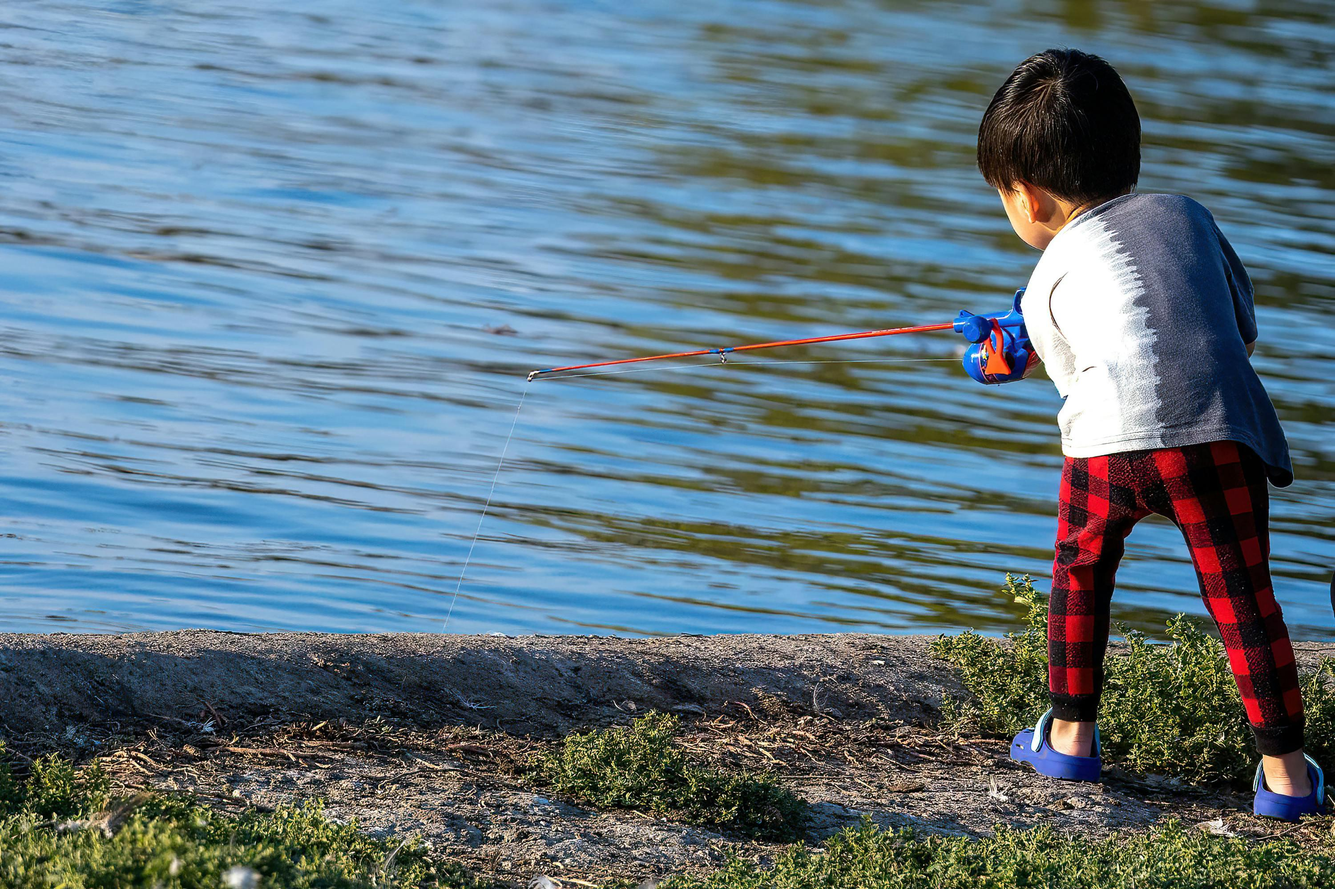Human: (933, 36, 1335, 821)
